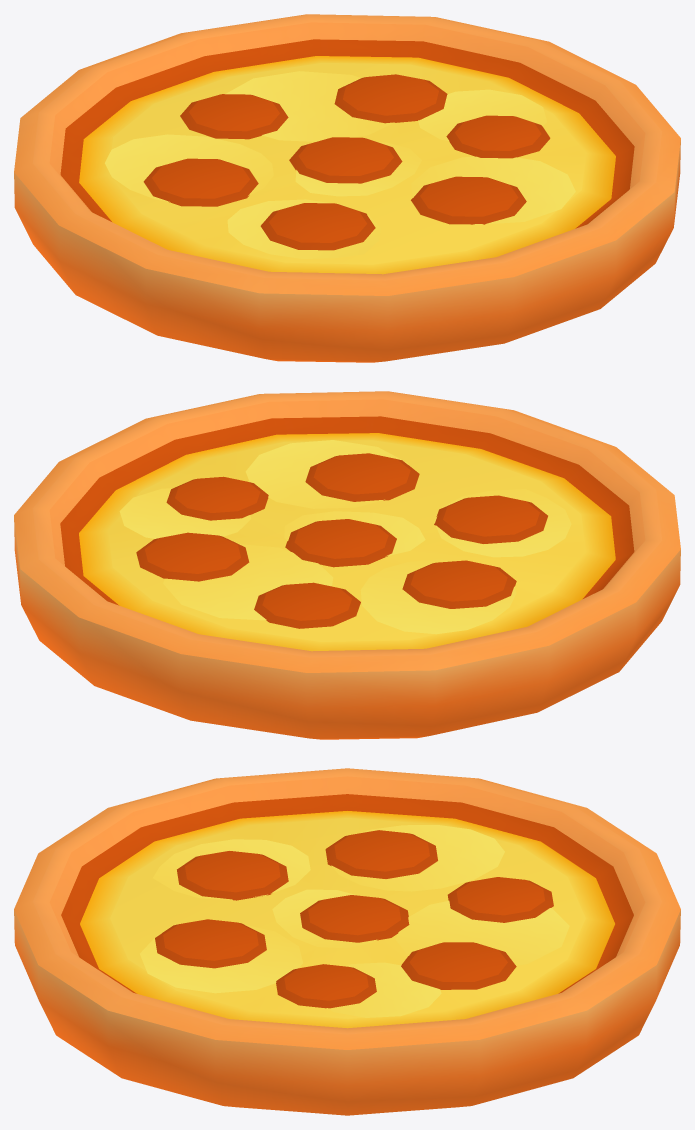
The model's file is pizza.glb.
3 renders of one model, top to bottom at view 1: azimuth 30°, elevation 25°; view 2: azimuth 150°, elevation 25°; view 3: azimuth 270°, elevation 25°, orthographic.
Visible parts, largest first — view 1: F_Europe_Pizza_Pepperoni_LOD0_streetFood_0; view 2: F_Europe_Pizza_Pepperoni_LOD0_streetFood_0; view 3: F_Europe_Pizza_Pepperoni_LOD0_streetFood_0.
Part boxes in pixels (x1=…): F_Europe_Pizza_Pepperoni_LOD0_streetFood_0: x1=14, y1=14, x2=680, y2=362; F_Europe_Pizza_Pepperoni_LOD0_streetFood_0: x1=14, y1=391, x2=680, y2=739; F_Europe_Pizza_Pepperoni_LOD0_streetFood_0: x1=14, y1=768, x2=680, y2=1115.
Bounding box in the file's own units: 0.3689 × 0.063 × 0.369.
Materials: 1 (1 with a texture image).
